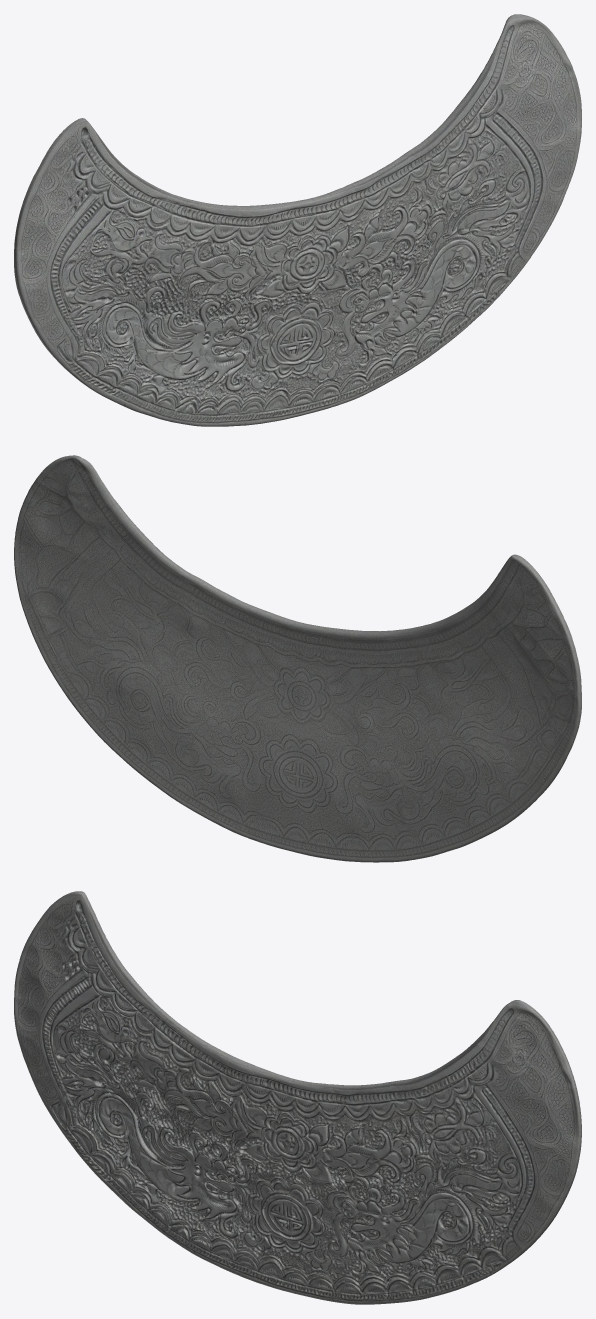
The model's file is hero-dragon.glb.
The picture shows the model from 3 angles, top to bottom: view 1: azimuth 30°, elevation 25°; view 2: azimuth 150°, elevation 25°; view 3: azimuth 330°, elevation 25°; orthographic projection.
Bounding box in the file's own units: 1.9 × 1.12 × 0.0881.
Materials: 1 (1 with a texture image).
